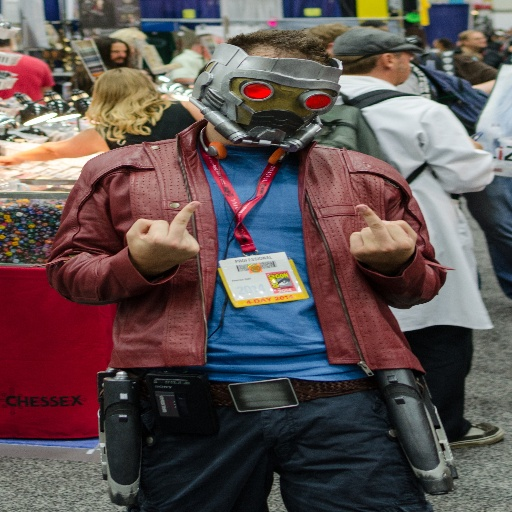hand: (351, 200, 437, 288), (123, 200, 198, 271), (0, 154, 19, 164), (471, 134, 482, 148)
